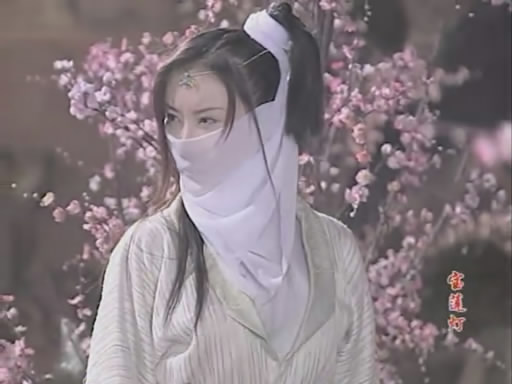face_mask: (160, 74, 251, 187)
